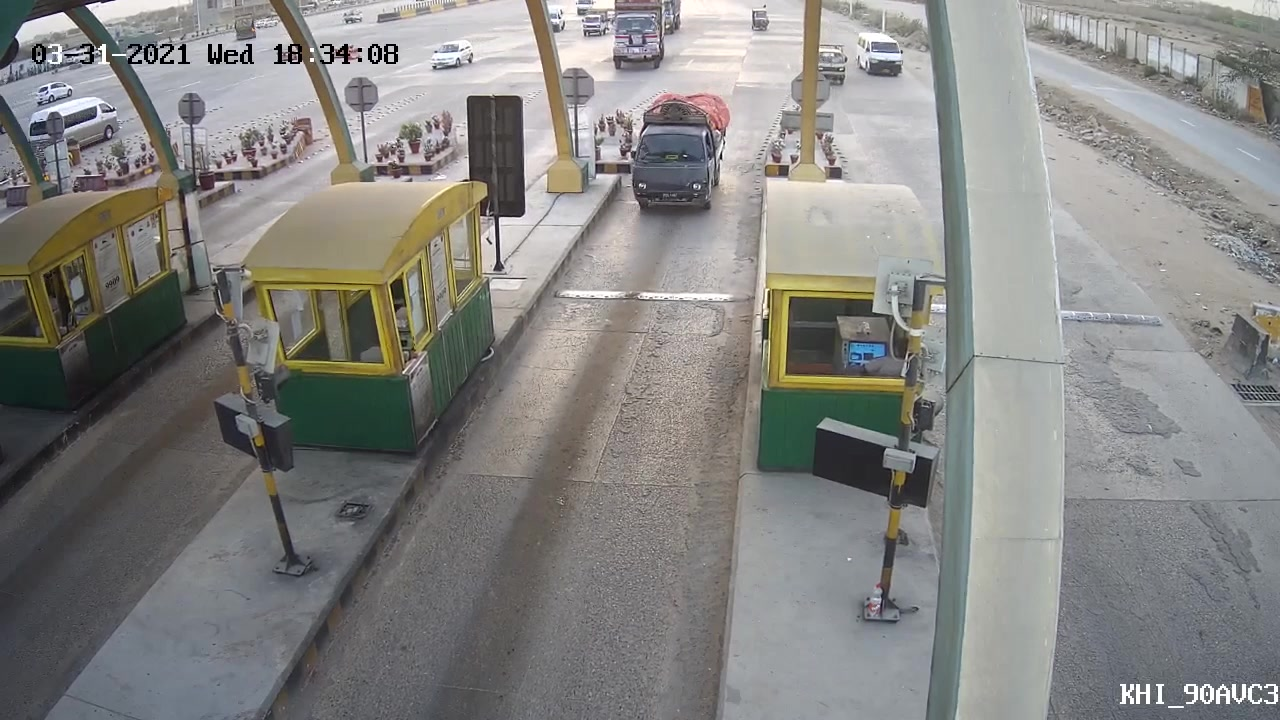F2: (621, 85, 744, 223)
